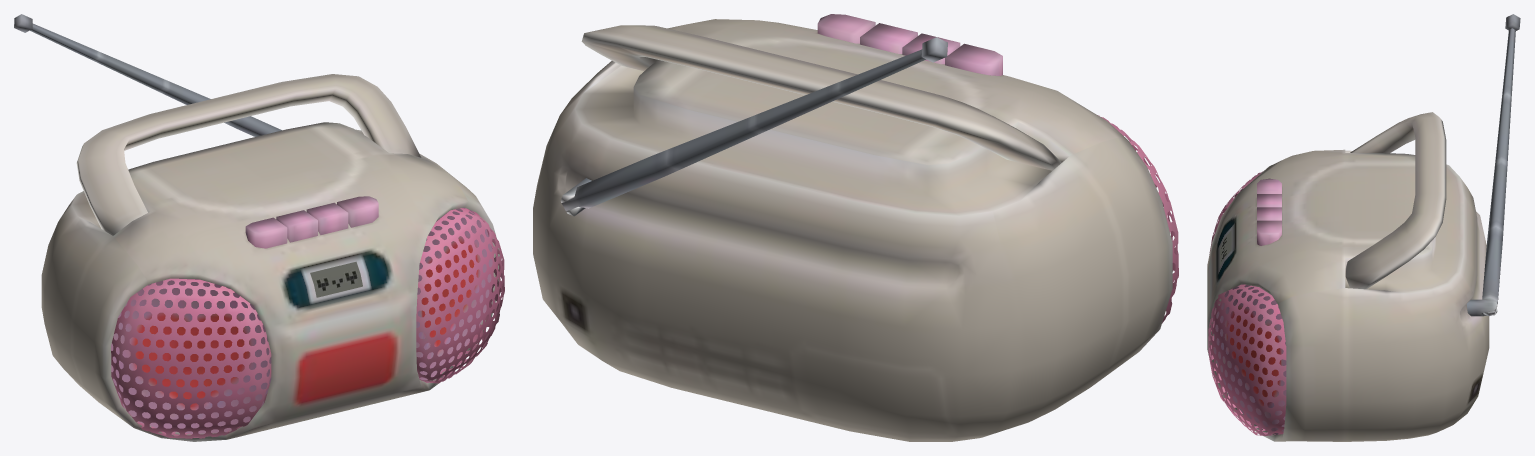
The picture shows the model from 3 angles, left to right: view 1: azimuth 30°, elevation 25°; view 2: azimuth 150°, elevation 25°; view 3: azimuth 270°, elevation 25°; orthographic projection. The views are drawn at different scales.
Size of the model in its own units: 6.51 by 5.24 by 4.98.
2 materials, 2 textured.
